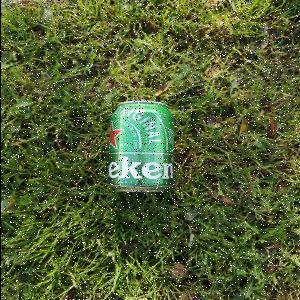Can: (107, 101, 177, 195)
